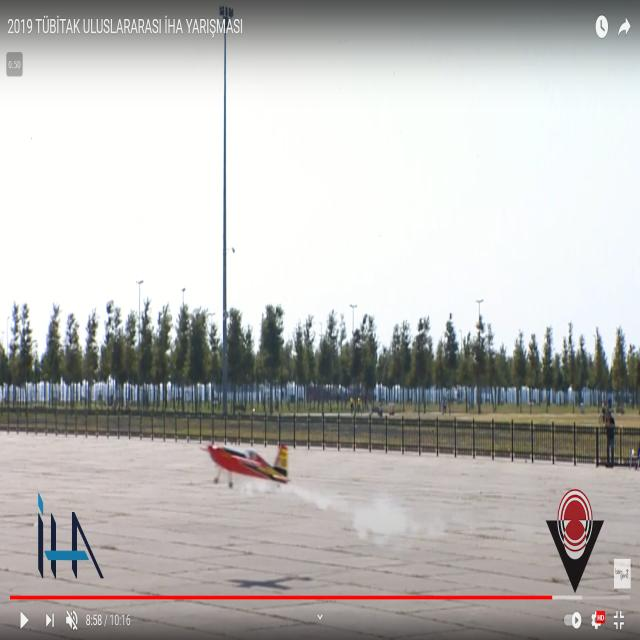iha: (230, 442, 256, 491)
